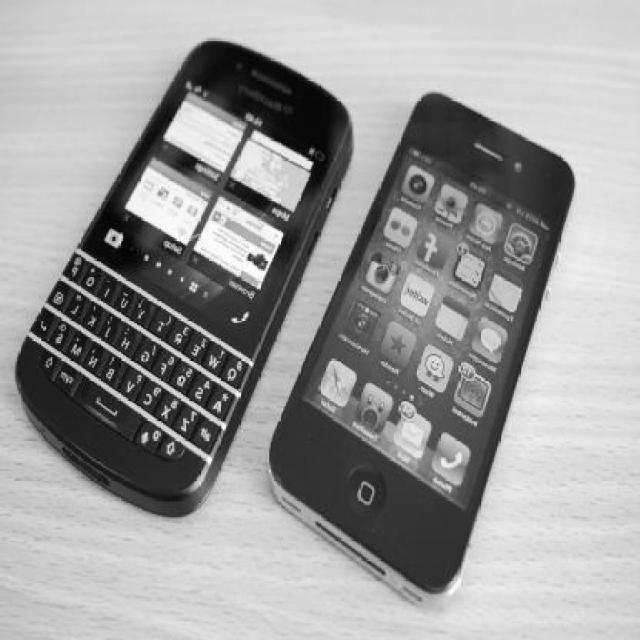fake: (15, 38, 354, 516), (268, 86, 576, 609)
